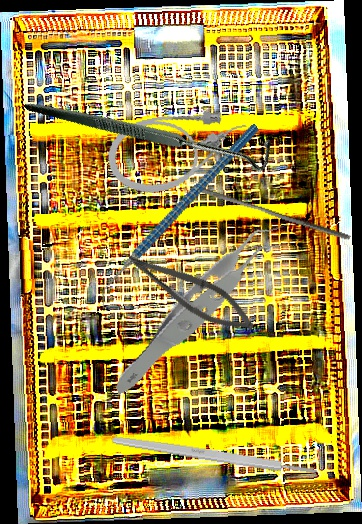Cannula: (101, 101, 256, 200)
Chopper: (59, 123, 300, 311)
Hook Surgical: (23, 3, 281, 253)
Micro Scissor: (118, 245, 263, 341)
Pusher: (193, 184, 354, 242)
Scalpel Handle: (111, 433, 318, 479)
Tissue Forceps: (86, 220, 322, 397)
